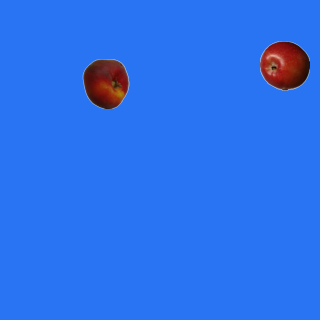Apple Braeburn: (259, 40, 309, 90)
Nectarine Flat: (80, 58, 130, 108)
